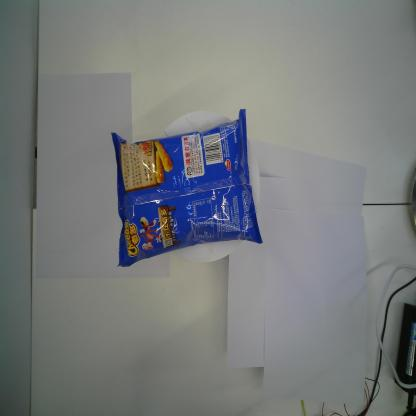Puffed Food: (110, 107, 264, 269)
